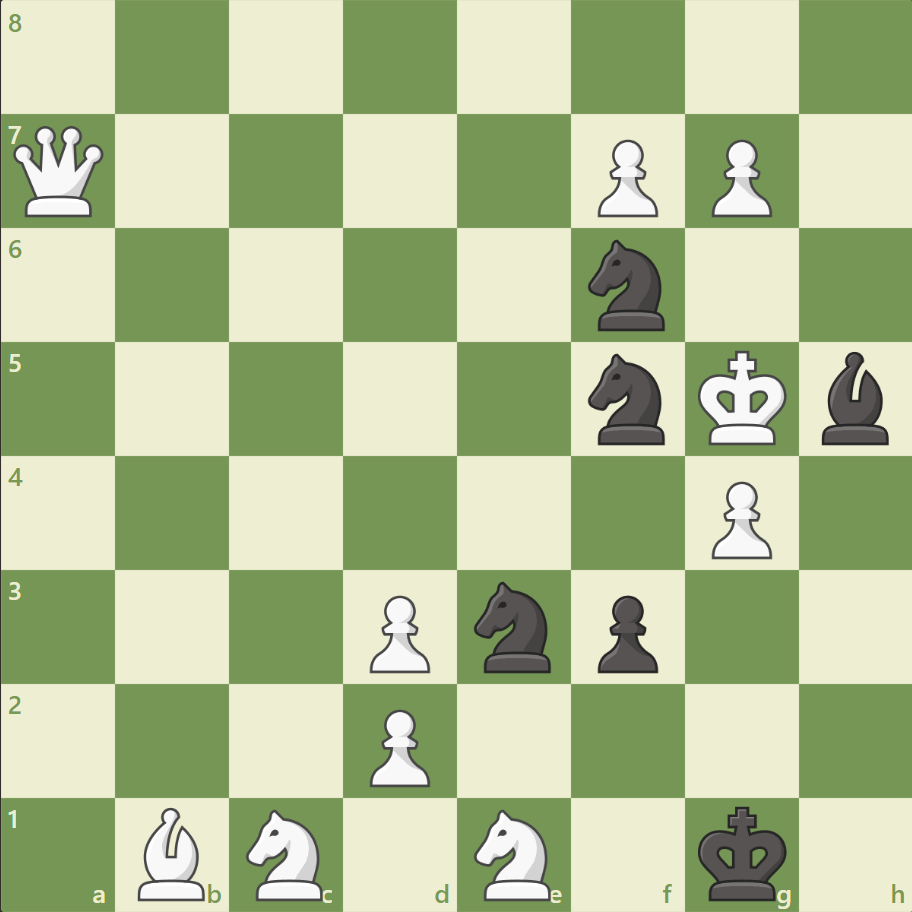B: (131, 801, 215, 904)
K: (692, 344, 792, 452)
N: (238, 802, 335, 904), (465, 802, 562, 904)
P: (701, 132, 776, 223), (701, 473, 776, 564), (588, 132, 662, 223), (361, 586, 435, 677), (361, 700, 435, 791)
Q: (10, 122, 109, 222)
b: (812, 347, 896, 449)
k: (692, 798, 792, 906)
n: (579, 234, 676, 337), (579, 348, 676, 450), (465, 575, 562, 677)
p: (588, 586, 662, 677)
